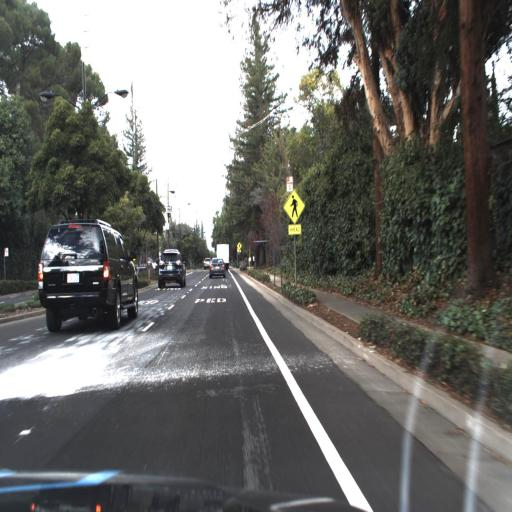car: (37, 218, 140, 333), (155, 246, 187, 293), (208, 257, 227, 281), (201, 254, 212, 275)
truck: (214, 240, 230, 264)
